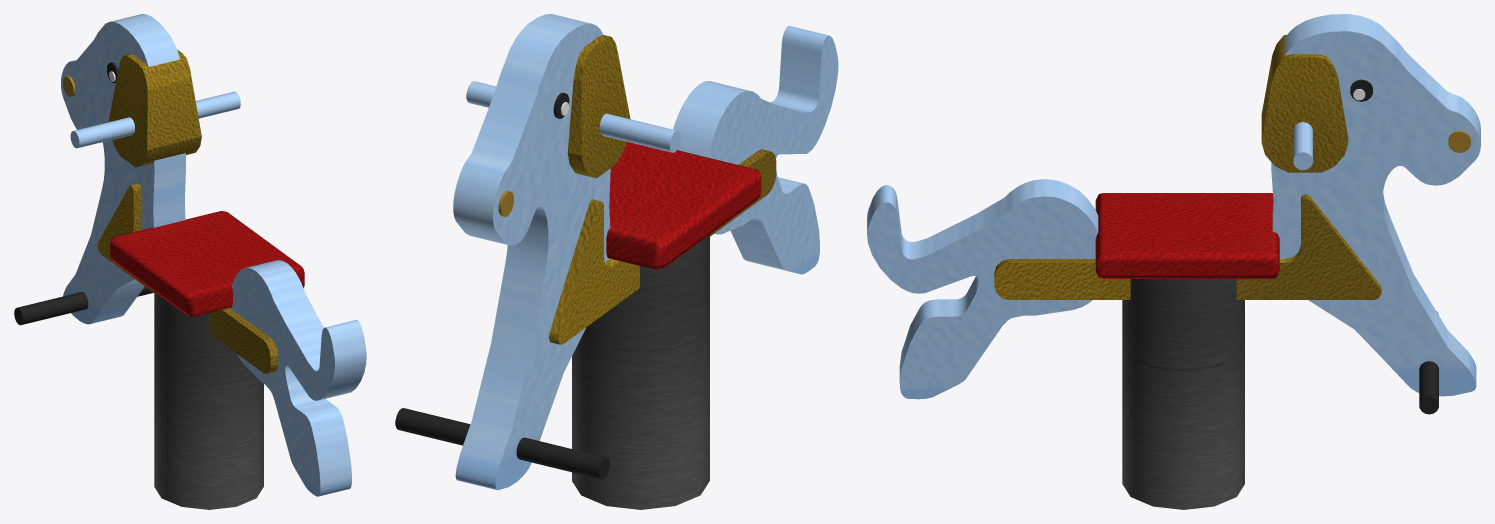
Rendered from ETC0210013.fbx.
The picture shows the model from 3 angles, left to right: view 1: azimuth 30°, elevation 25°; view 2: azimuth 150°, elevation 25°; view 3: azimuth 270°, elevation 25°; orthographic projection. The views are drawn at different scales.
Parts seen in each view (by area): view 1: smETC0210013; view 2: smETC0210013; view 3: smETC0210013.
Part boxes in pixels (box(x1,y1,x2,y2)): smETC0210013: box(14, 14, 366, 509); smETC0210013: box(395, 14, 838, 509); smETC0210013: box(867, 14, 1480, 509).
Bounding box in the file's own units: 53.79 × 131 × 158.
Materials: 1 (1 with a texture image).
